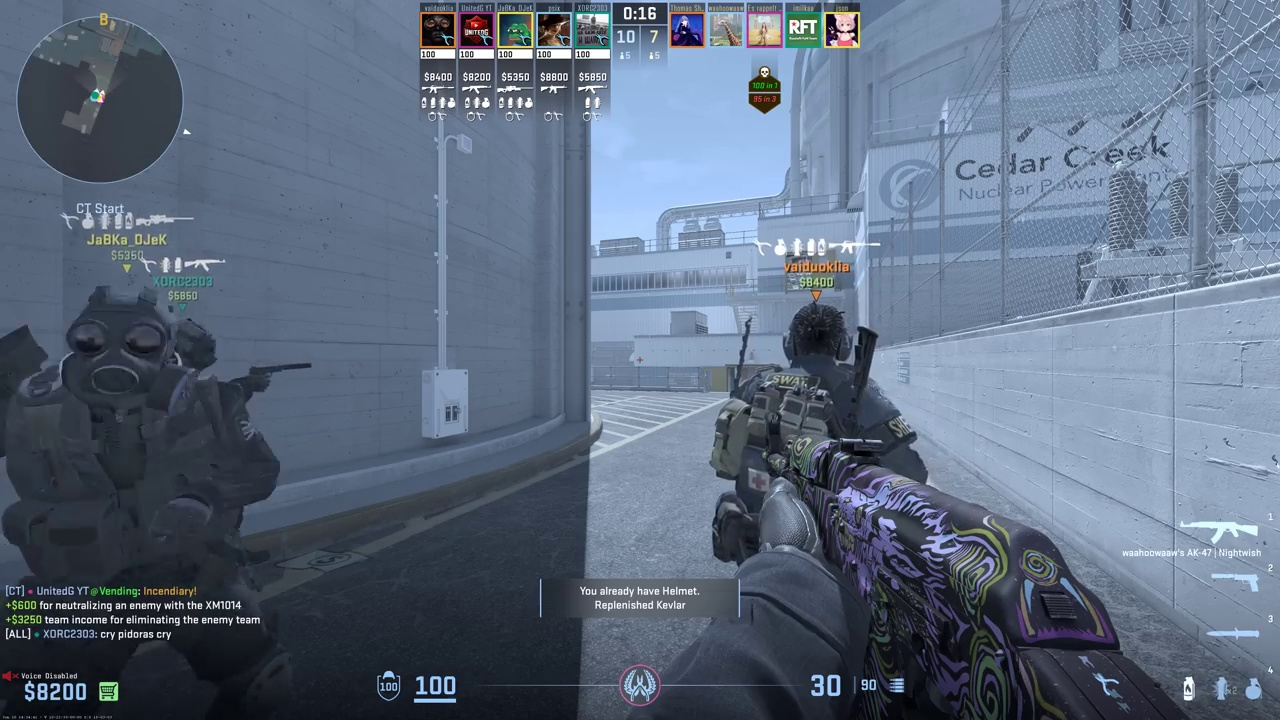CT: (7, 284, 270, 714), (724, 304, 917, 566)
